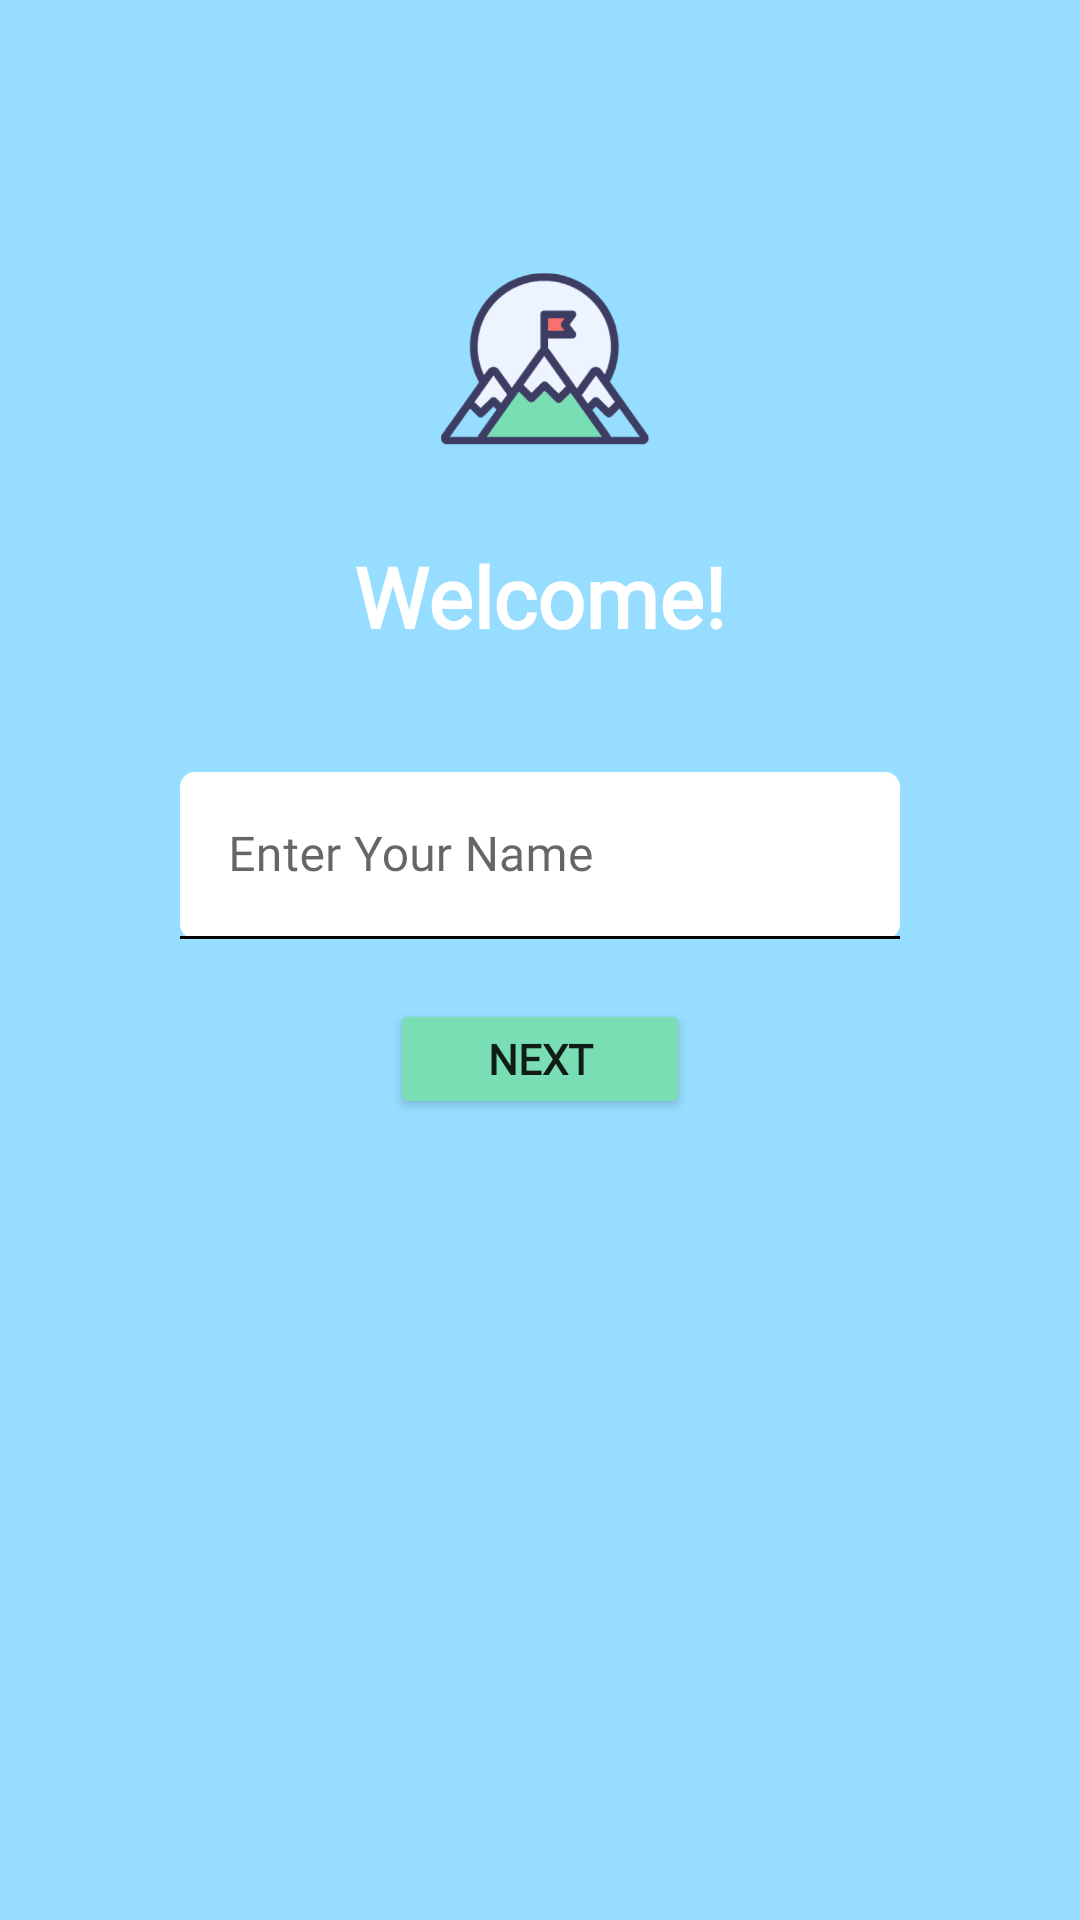

Icons on this 1080×1920 Android screen, each with its box as (x1, y1, x2, y2):
challenge: (441, 273, 649, 445)
